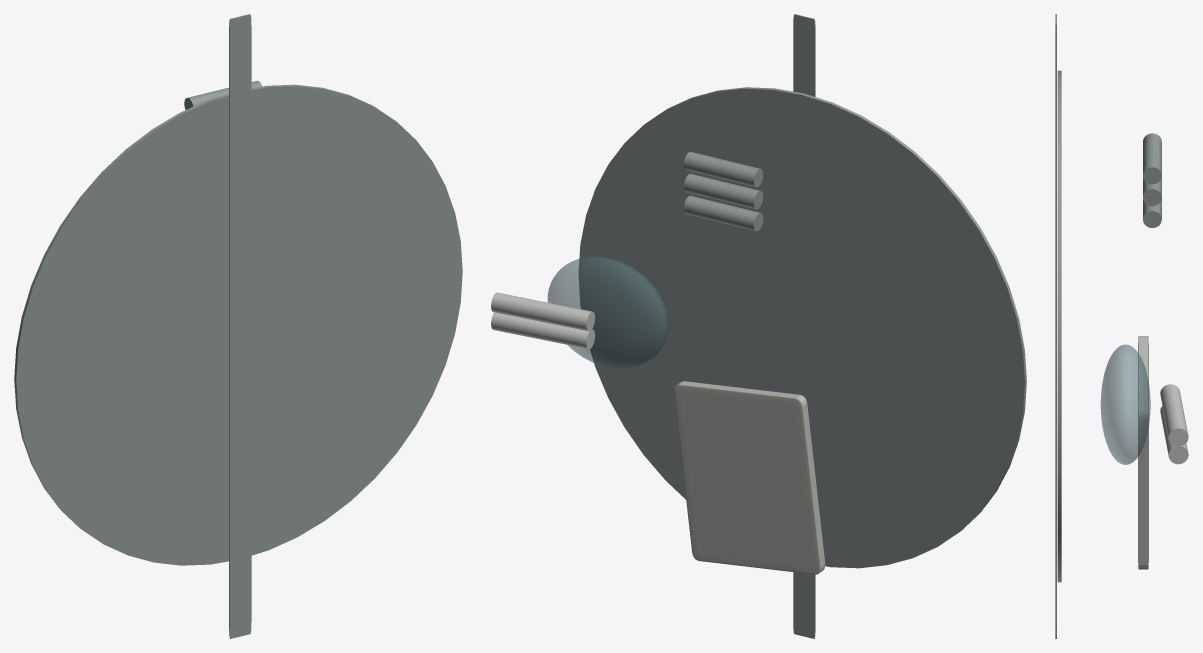
The model's file is c-u10-attack-helicopter-lod2.glb.
3 renders of one model, left to right at view 1: azimuth 30°, elevation 25°; view 2: azimuth 150°, elevation 25°; view 3: azimuth 270°, elevation 25°, orthographic.
Parts seen in each view (by area): view 1: rotor_main, rotor_blade_1, rotor_blade_3; view 2: rotor_main, stub_wing_-1, cockpit, chin_gun_barrel_1, chin_gun_barrel_0, rotor_blade_1, helo_missile_1_tube_1, helo_missile_1_tube_2, helo_missile_1_tube_3, rotor_blade_3; view 3: cockpit, stub_wing_-1, rotor_main, chin_gun_barrel_1, helo_missile_1_tube_3, rotor_blade_1, rotor_blade_3, chin_gun_barrel_0, helo_missile_1_tube_2, helo_missile_1_tube_1.
Part boxes in pixels (x1=…): rotor_main: x1=14, y1=84, x2=462, y2=565; rotor_blade_1: x1=229, y1=14, x2=251, y2=358; rotor_blade_3: x1=229, y1=295, x2=251, y2=638; rotor_main: x1=578, y1=87, x2=1026, y2=568; stub_wing_-1: x1=674, y1=381, x2=825, y2=574; cockpit: x1=547, y1=256, x2=668, y2=368; chin_gun_barrel_1: x1=491, y1=292, x2=595, y2=331; chin_gun_barrel_0: x1=491, y1=312, x2=595, y2=349; rotor_blade_1: x1=793, y1=14, x2=815, y2=96; helo_missile_1_tube_1: x1=684, y1=195, x2=763, y2=231; helo_missile_1_tube_2: x1=684, y1=173, x2=763, y2=209; helo_missile_1_tube_3: x1=684, y1=151, x2=763, y2=187; rotor_blade_3: x1=793, y1=572, x2=815, y2=638; cockpit: x1=1100, y1=344, x2=1150, y2=464; stub_wing_-1: x1=1138, y1=336, x2=1148, y2=569; rotor_main: x1=1057, y1=70, x2=1061, y2=582; chin_gun_barrel_1: x1=1160, y1=384, x2=1188, y2=446; helo_missile_1_tube_3: x1=1143, y1=133, x2=1161, y2=184; rotor_blade_1: x1=1055, y1=14, x2=1056, y2=361; rotor_blade_3: x1=1055, y1=361, x2=1056, y2=638; chin_gun_barrel_0: x1=1160, y1=406, x2=1188, y2=464; helo_missile_1_tube_2: x1=1143, y1=176, x2=1161, y2=206; helo_missile_1_tube_1: x1=1143, y1=198, x2=1161, y2=227.
Size of what is drawn, in the model's own units: 12.43 by 15.62 by 3.06.
